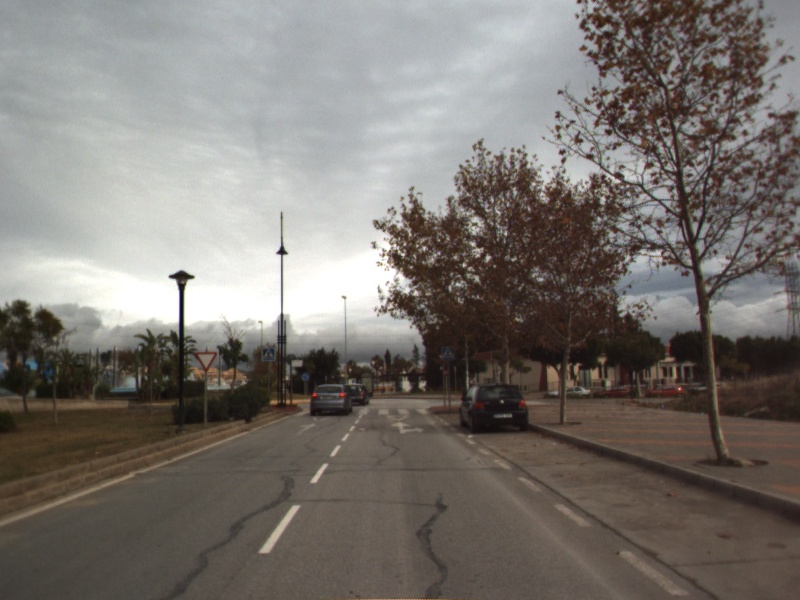STRAIGHT: (293, 421, 320, 437)
STRAIGHT_RIGHT: (389, 419, 427, 435)
